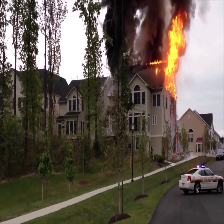fire: (167, 15, 181, 92)
smoke: (109, 3, 164, 59)
